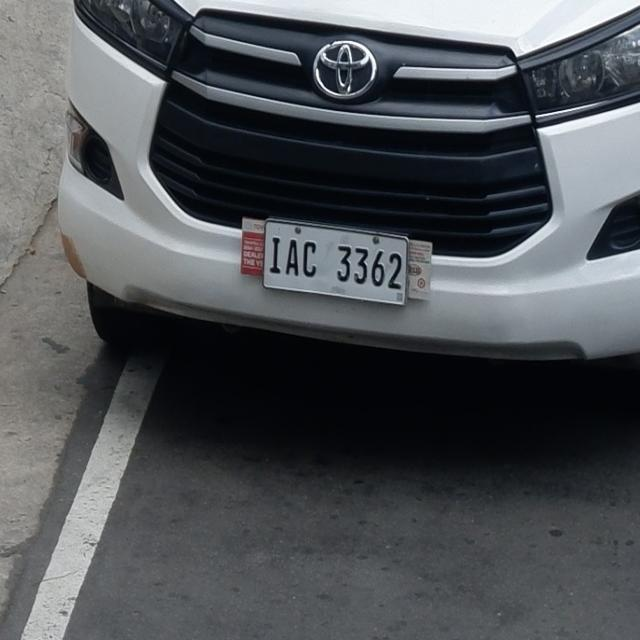LicensePlate: (260, 215, 416, 302)
